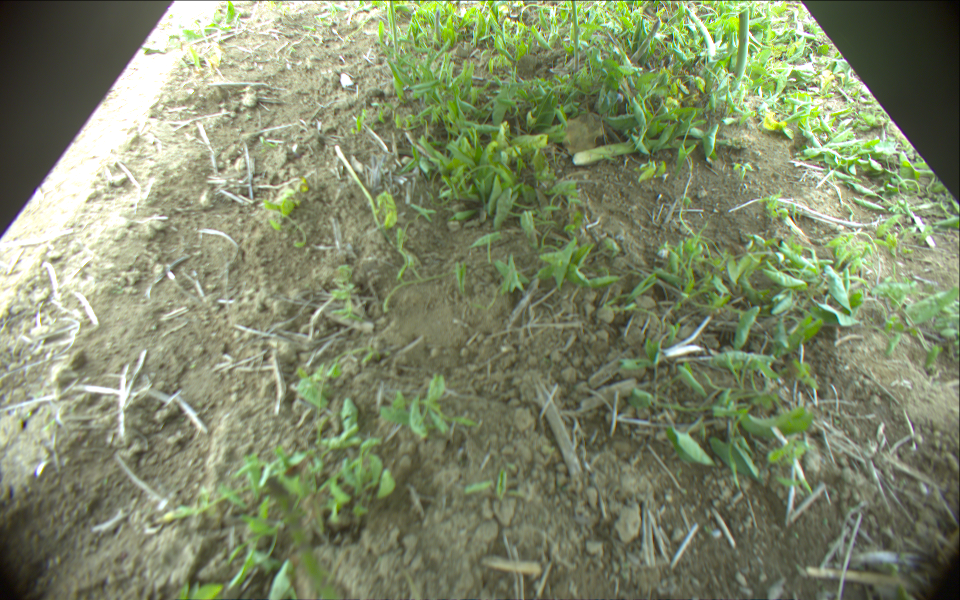aspa: (575, 135, 733, 166), (687, 8, 716, 59), (631, 20, 661, 64), (736, 9, 752, 89), (571, 1, 580, 66), (389, 1, 398, 56), (434, 9, 441, 40)
